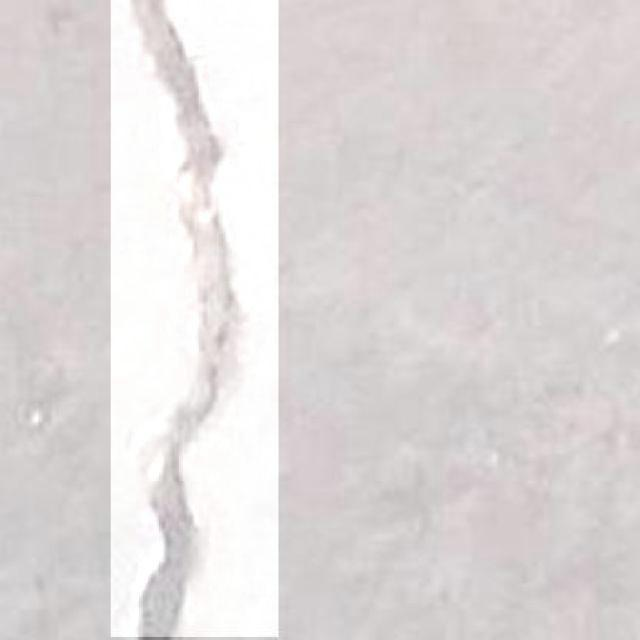SurfaceCrack: (108, 0, 286, 640)
